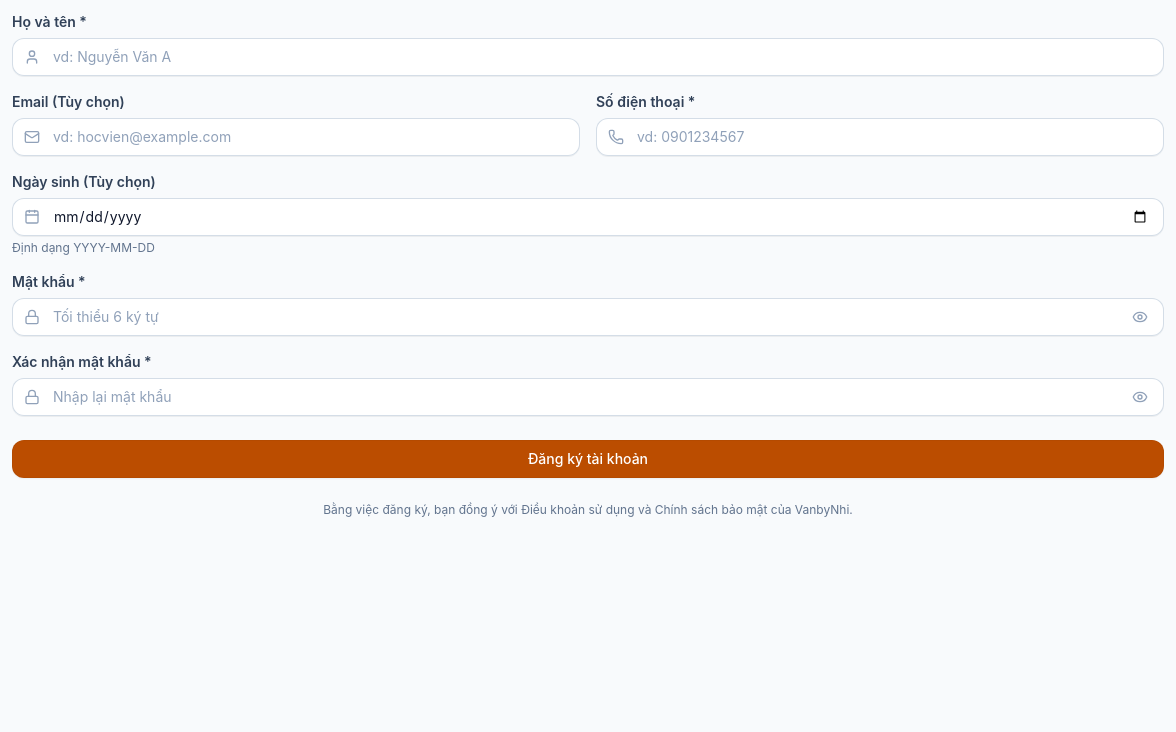
it: RegisterForm › validates required fields on empty submission
What coordinates should you click on to do the following:
click the button "Đăng ký tài khoản"
I would click on:
 (588, 459)
Its box is [12,440,1164,478].
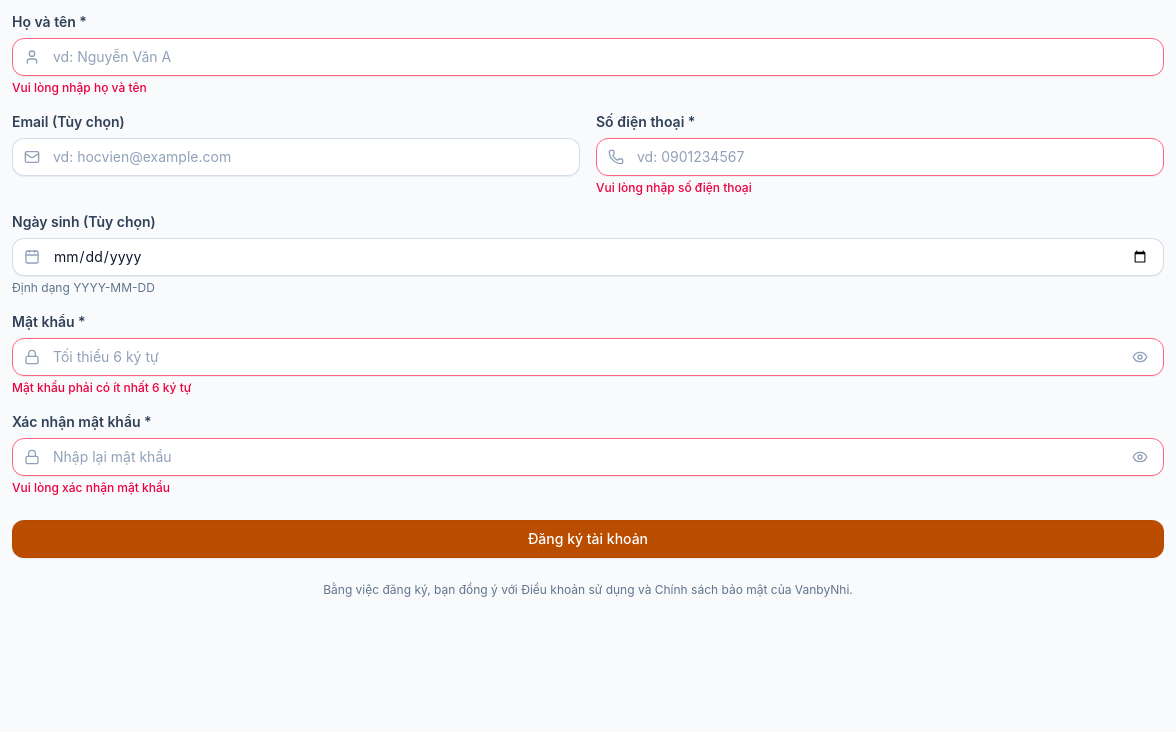
Now the text "Vui lòng nhập họ và tên" is shown, box [12,80,147,95]
Now the text "Vui lòng nhập số điện thoại" is shown, box [596,180,752,195]
Now the text "Mật khẩu phải có ít nhất 6 ký tự" is shown, box [12,380,191,395]
